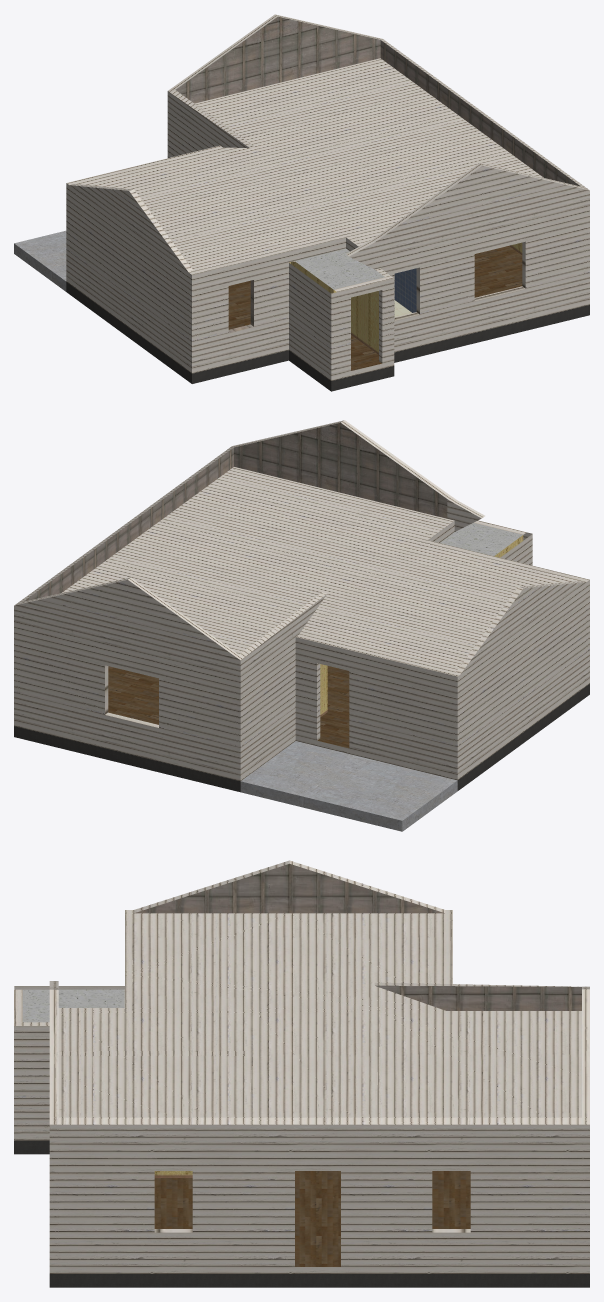
The model's file is House_Demo_040-col.glb.
3 views of the same model, one above another, from view 1: azimuth 30°, elevation 25°; view 2: azimuth 150°, elevation 25°; view 3: azimuth 270°, elevation 25° (orthographic). The views are drawn at different scales.
Visible parts, largest first — view 1: House_Demo_040-col; view 2: House_Demo_040-col; view 3: House_Demo_040-col.
Part boxes in pixels (x1,y1,x2,y2): House_Demo_040-col: [14, 14, 589, 391]; House_Demo_040-col: [14, 420, 589, 831]; House_Demo_040-col: [14, 860, 589, 1287].
Size of the model in its own units: 11.91 by 5.42 by 12.33.
Materials: 9 (9 with a texture image).
